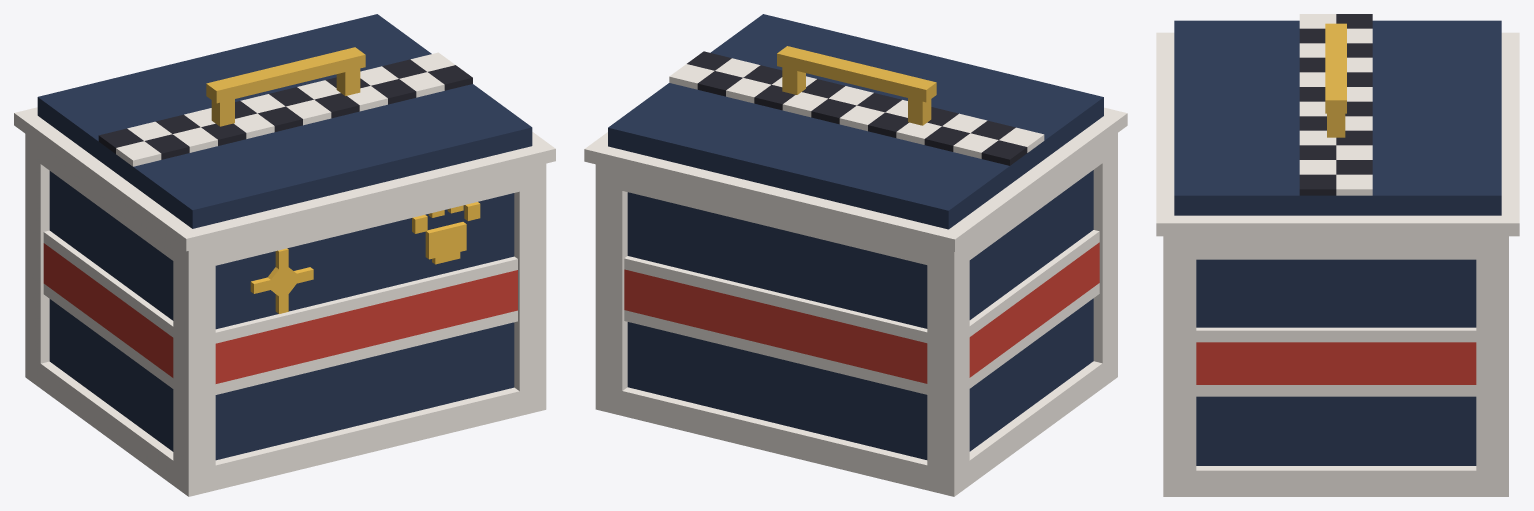
File: CatCafe_Prop_Crate_Rally.glb
3 renders of one model, left to right at view 1: azimuth 30°, elevation 25°; view 2: azimuth 150°, elevation 25°; view 3: azimuth 270°, elevation 25°, orthographic. The views are drawn at different scales.
Parts seen in each view (by area): view 1: CatCafe_Prop_Crate_Rally, CatCafe_Prop_Crate_Rally_Lid; view 2: CatCafe_Prop_Crate_Rally, CatCafe_Prop_Crate_Rally_Lid; view 3: CatCafe_Prop_Crate_Rally, CatCafe_Prop_Crate_Rally_Lid.
Part boxes in pixels (x1=…): CatCafe_Prop_Crate_Rally: x1=25, y1=134, x2=546, y2=496; CatCafe_Prop_Crate_Rally_Lid: x1=14, y1=14, x2=555, y2=251; CatCafe_Prop_Crate_Rally: x1=595, y1=133, x2=1117, y2=496; CatCafe_Prop_Crate_Rally_Lid: x1=584, y1=14, x2=1127, y2=251; CatCafe_Prop_Crate_Rally: x1=1163, y1=236, x2=1508, y2=496; CatCafe_Prop_Crate_Rally_Lid: x1=1156, y1=14, x2=1519, y2=236.
Size of the model in its own units: 2.48 by 2.08 by 2.
Materials: 1 (1 with a texture image).
